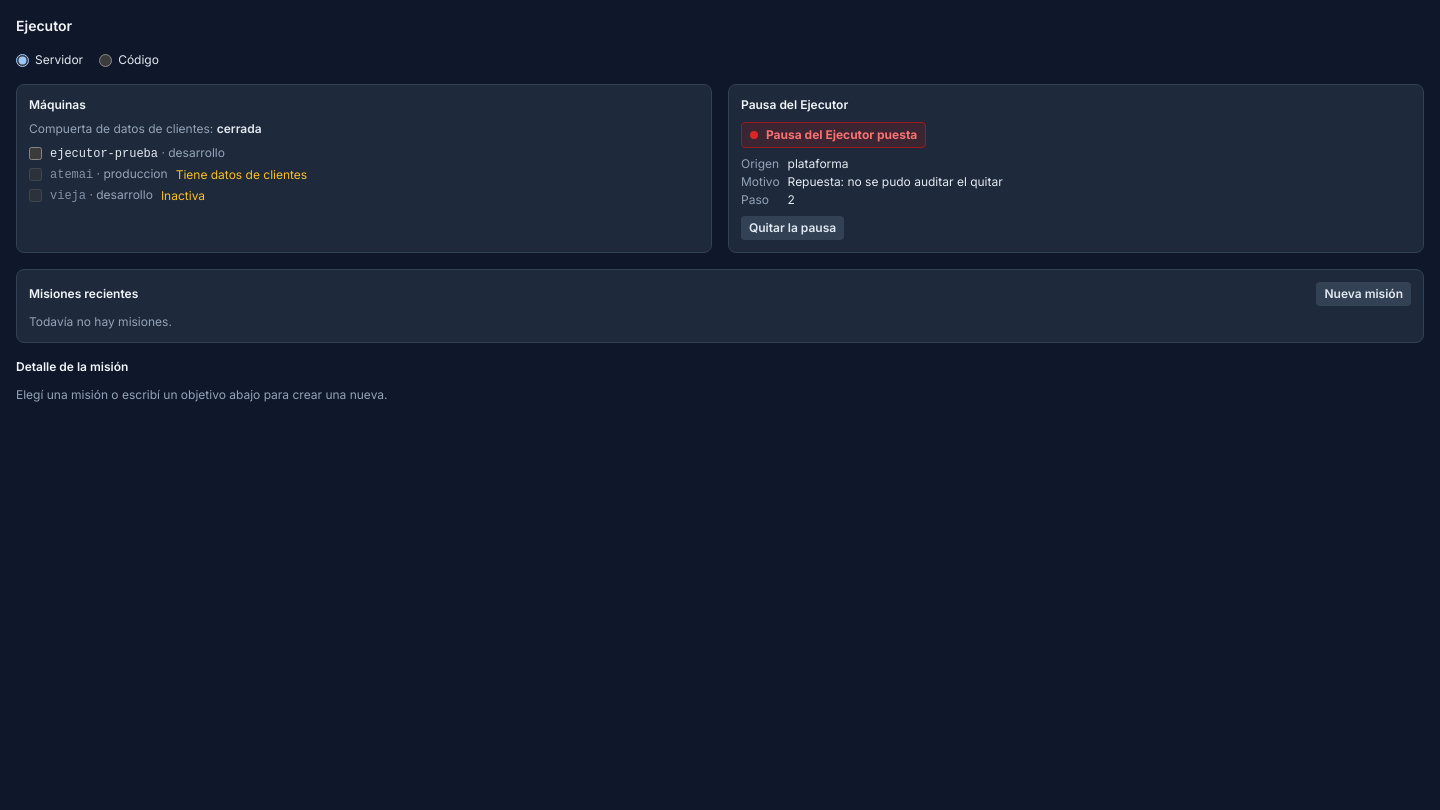
Test case: Ejecutor -- pausa del Ejecutor › quitar la pausa exige la suma y muestra el motivo; con la suma bien, quita
The width and height of the screenshot is (1440, 810).
Click the button "Quitar la pausa" at (793, 228), box [741,216,844,240]
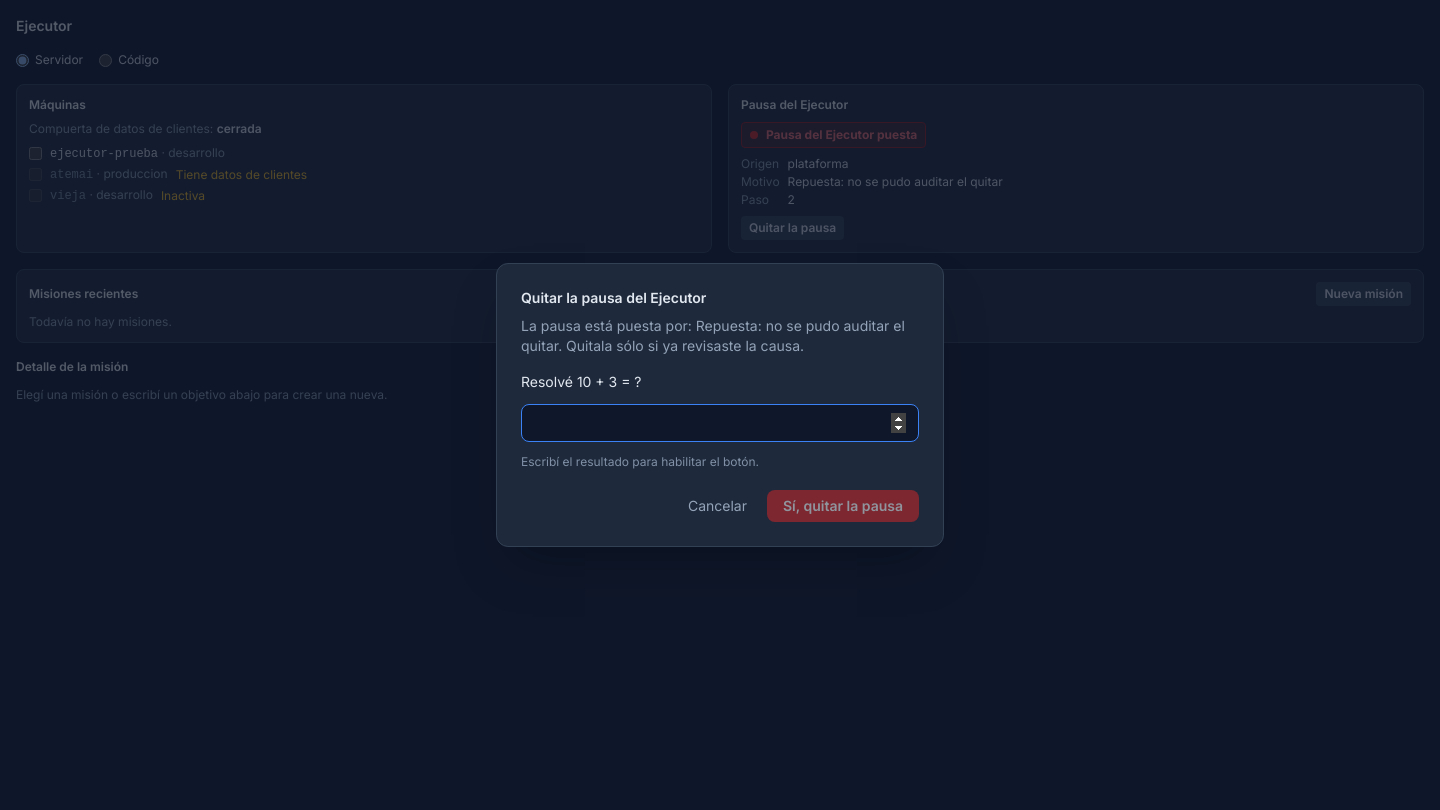
Now the dialog "Quitar la pausa del Ejecutor" shows "Repuesta: no se pudo auditar el quitar", box [521,317,905,354]
Now the button "Sí, quitar la pausa" is disabled, box [767,490,919,522]
Type "13" into the number field labelled "Resolvé 10 + 3 = ?" at (720, 423), box [521,404,919,442]
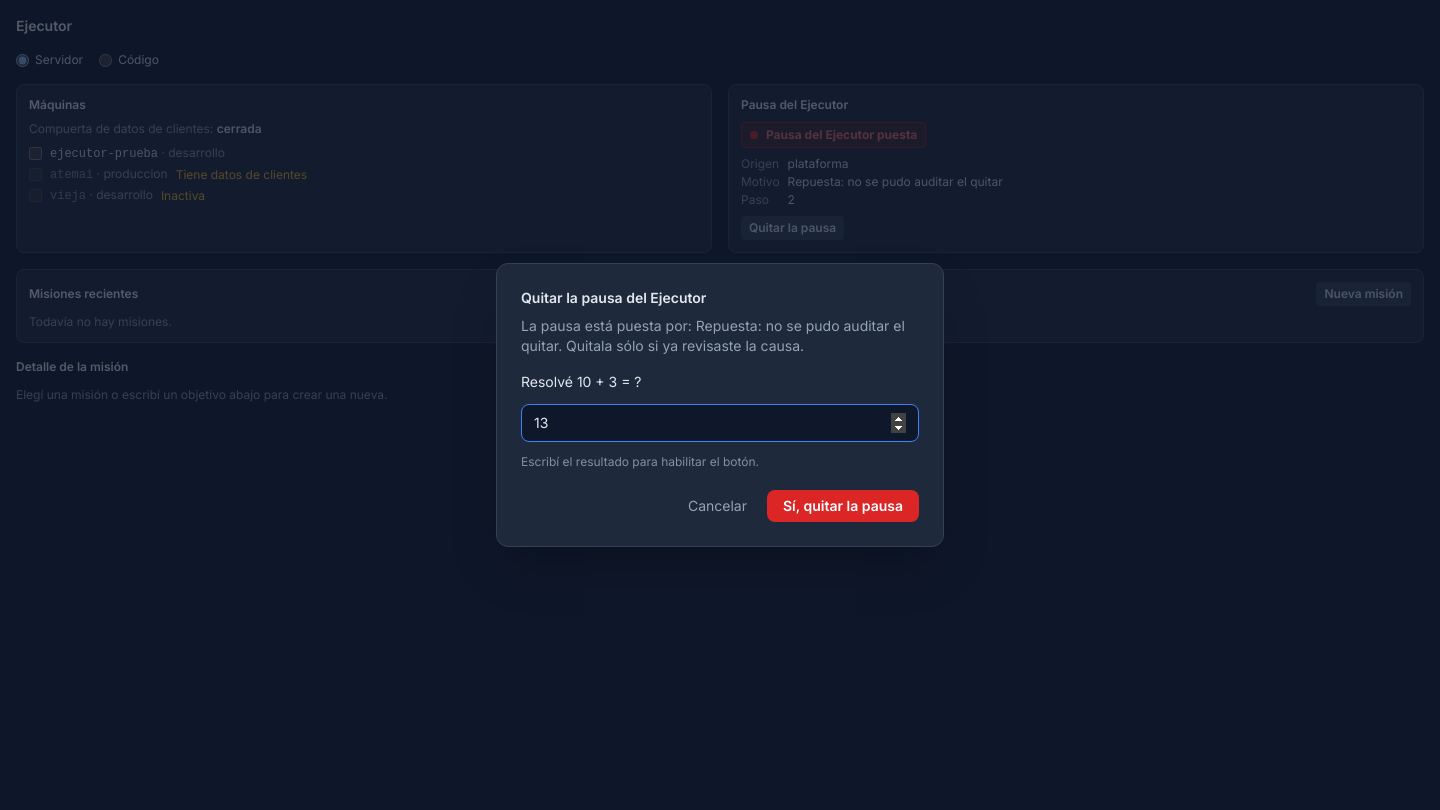
Click the button "Sí, quitar la pausa" at (843, 506), box [767,490,919,522]
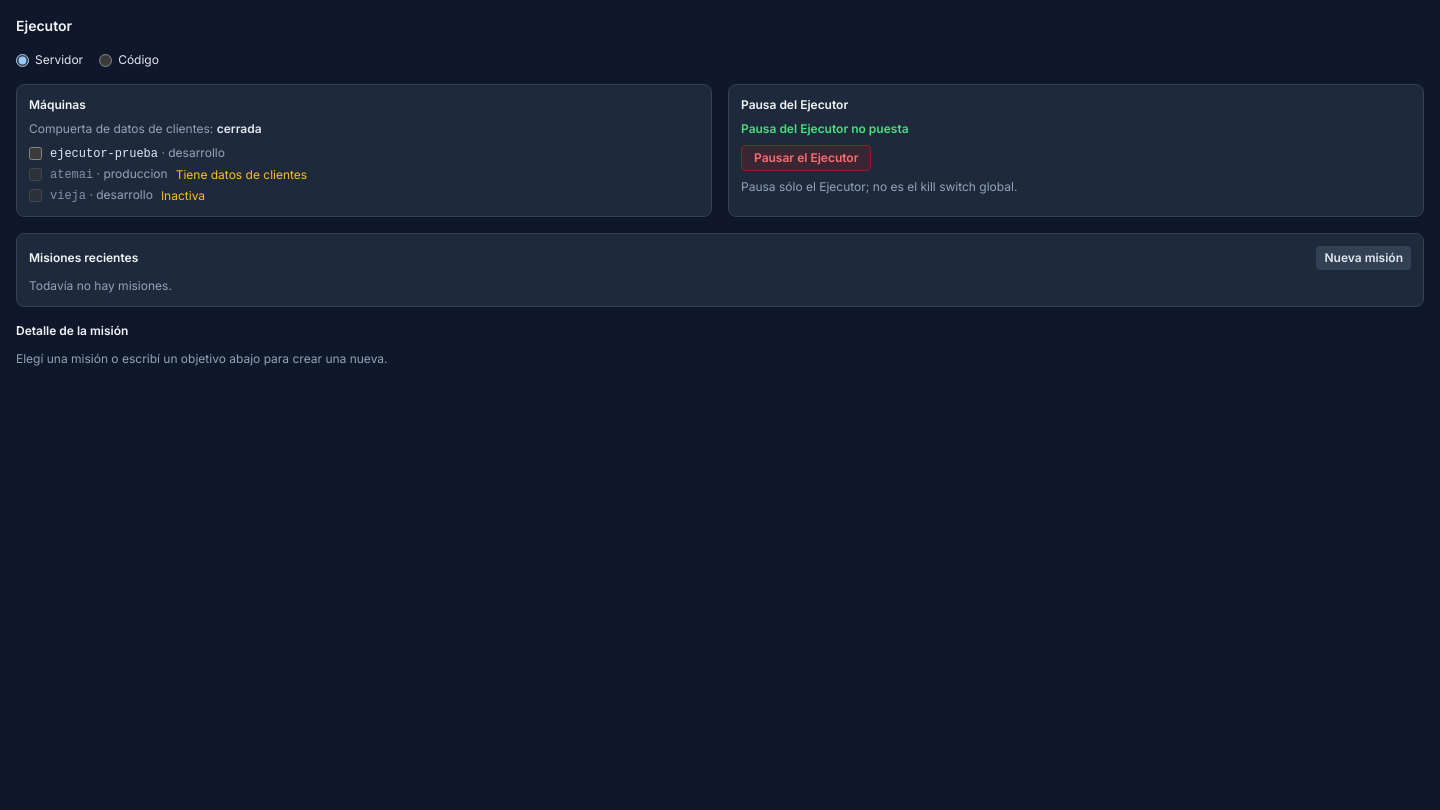
Now the text "Pausa del Ejecutor no puesta" is shown, box [741,121,909,136]
